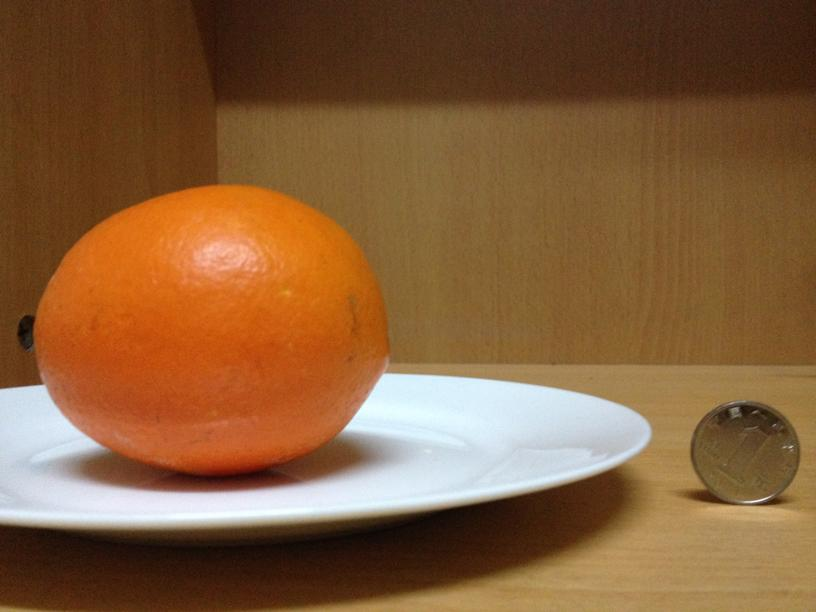coin: (689, 397, 798, 503)
orange: (31, 189, 388, 475)
